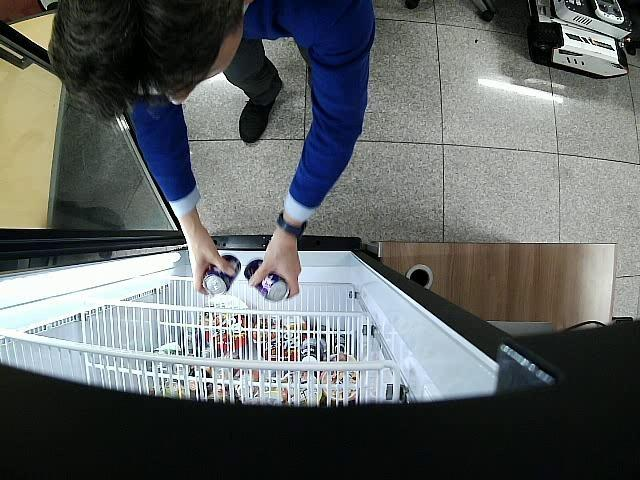14_welchsGrape: (244, 259, 289, 301), (201, 254, 241, 296)
